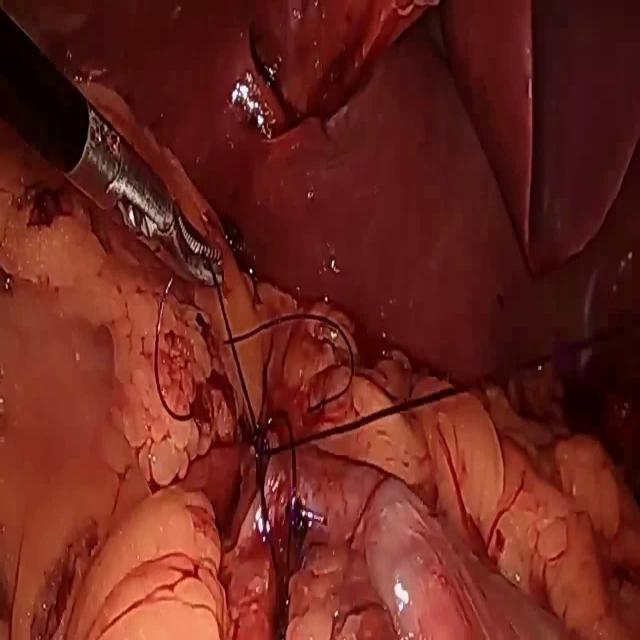surgical-tool: (0, 10, 226, 292)
